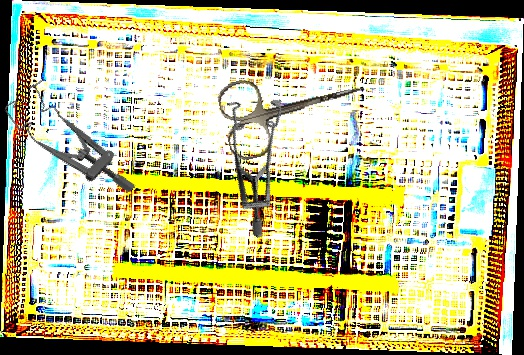Iris Scissors: (214, 51, 375, 164)
Speculum: (175, 77, 330, 240), (1, 70, 138, 223)
